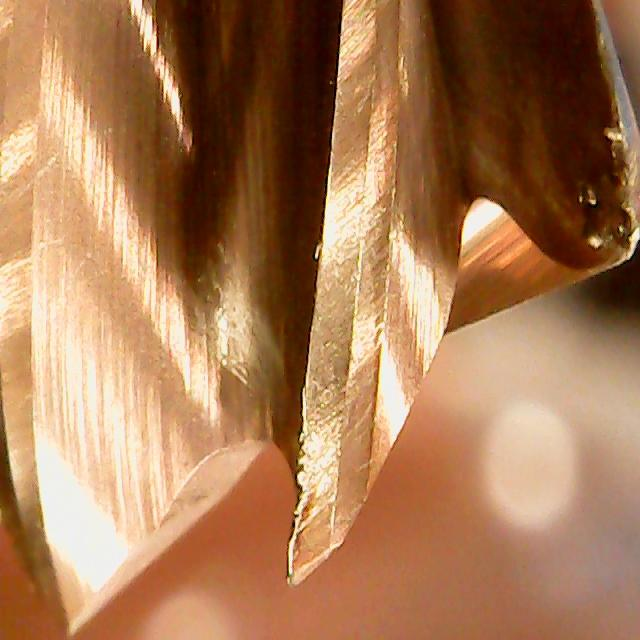Tool-wear-class-1: (258, 268, 444, 593)
